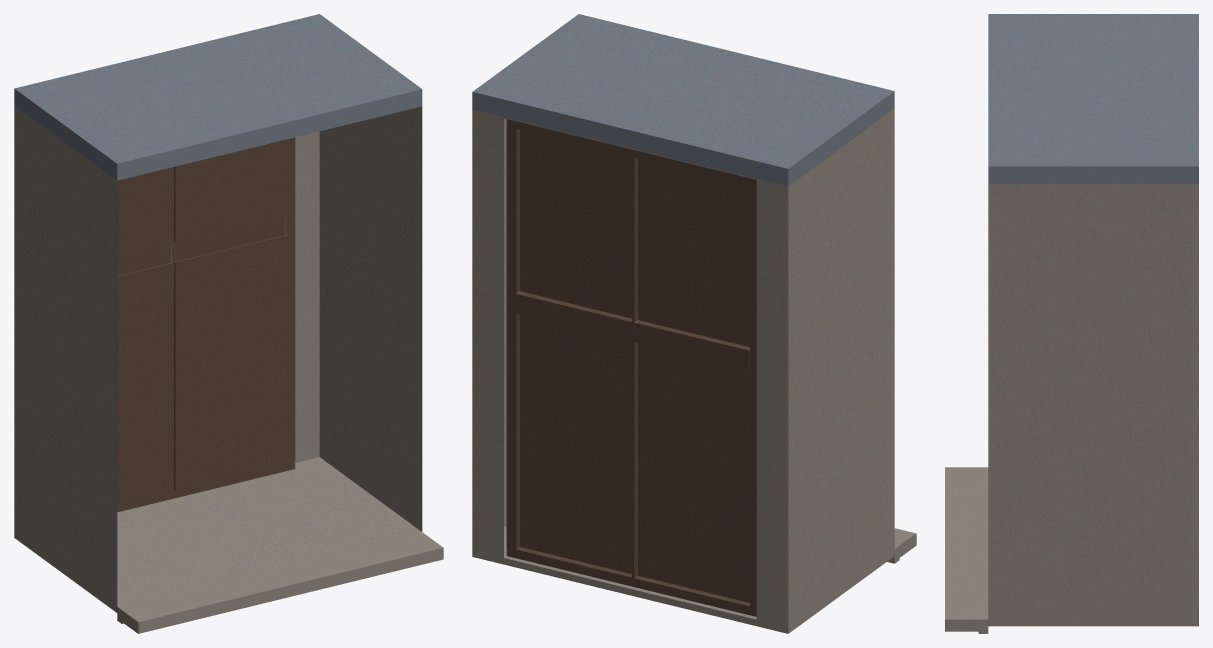
File: door.obj
The picture shows the model from 3 angles, left to right: view 1: azimuth 30°, elevation 25°; view 2: azimuth 150°, elevation 25°; view 3: azimuth 270°, elevation 25°; orthographic projection. The views are drawn at different scales.
Bounding box in the file's own units: 3 × 4.29 × 2.11.
